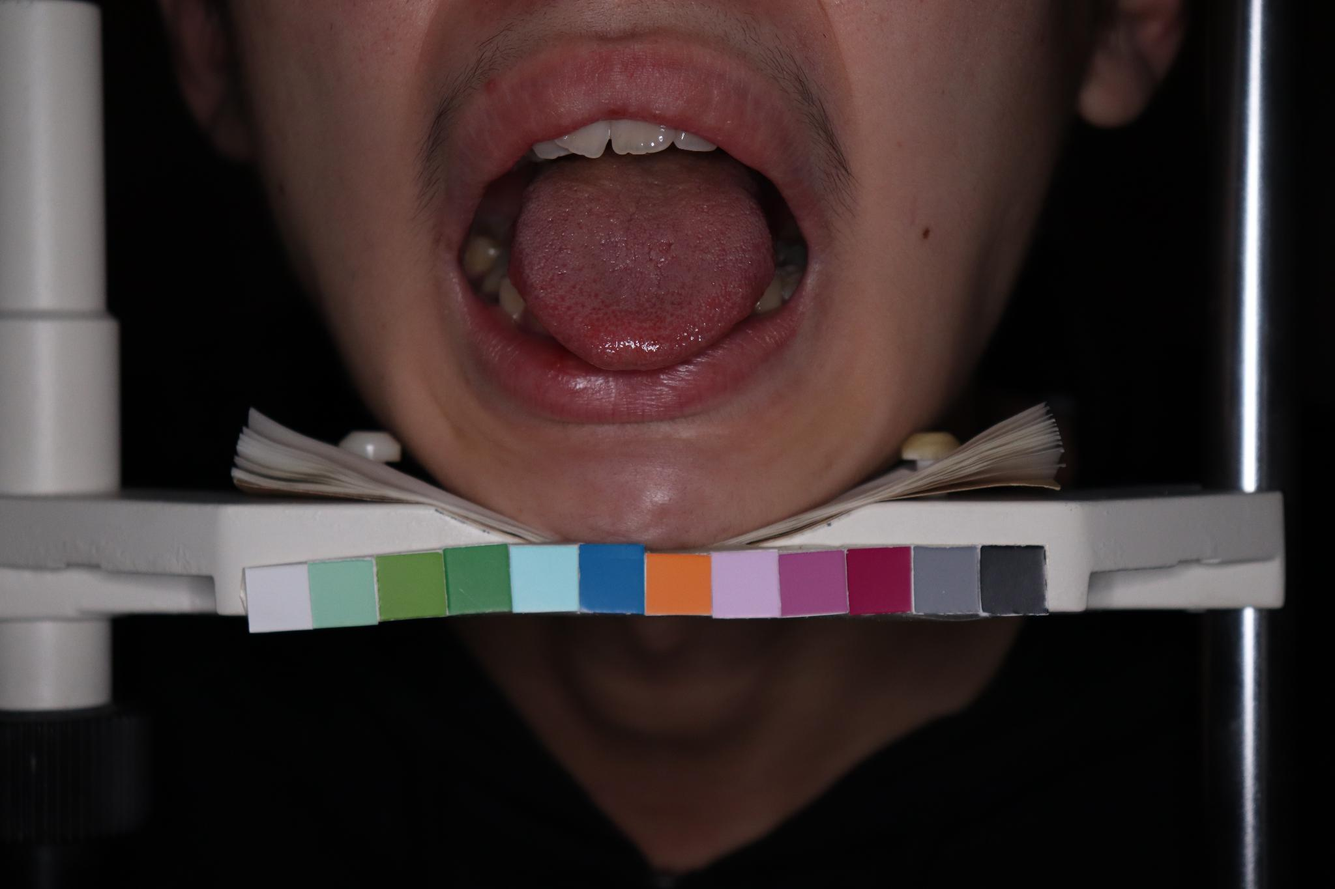baitaishe: (507, 144, 776, 372)
hongdianshe: (592, 291, 600, 300), (565, 303, 574, 311), (609, 307, 616, 314), (570, 282, 576, 290), (581, 303, 586, 309)
